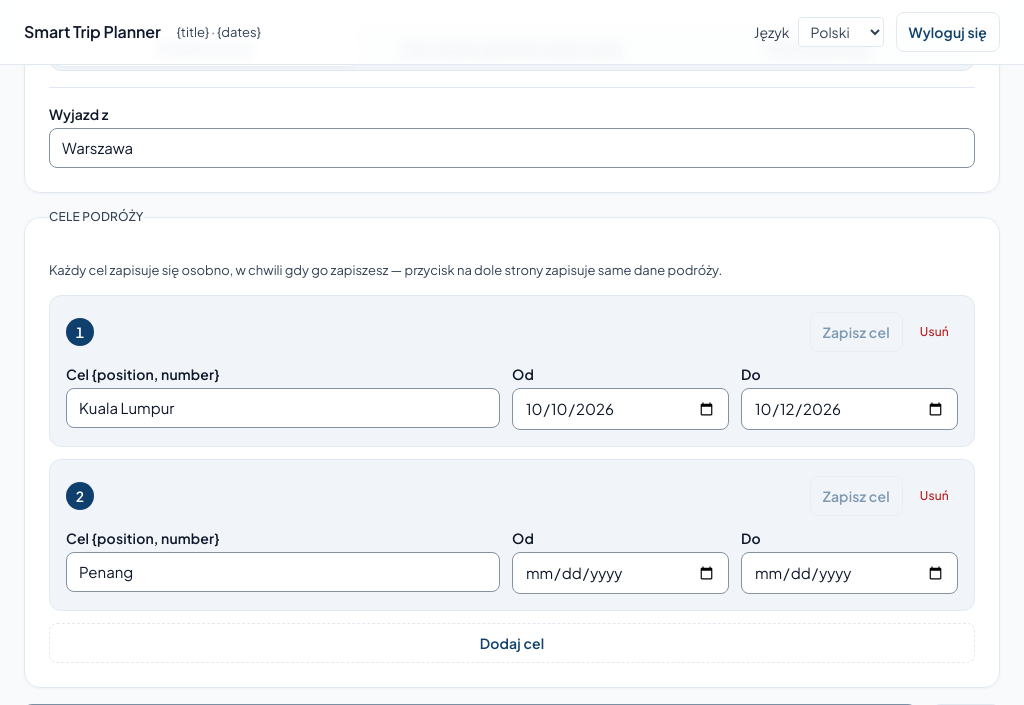
Scenario: editing a base › reports a refused save on the card that caused it, and only there
(page scrolled)
Clear the 2nd field showing "Penang": (283, 572) [66,552,500,592]
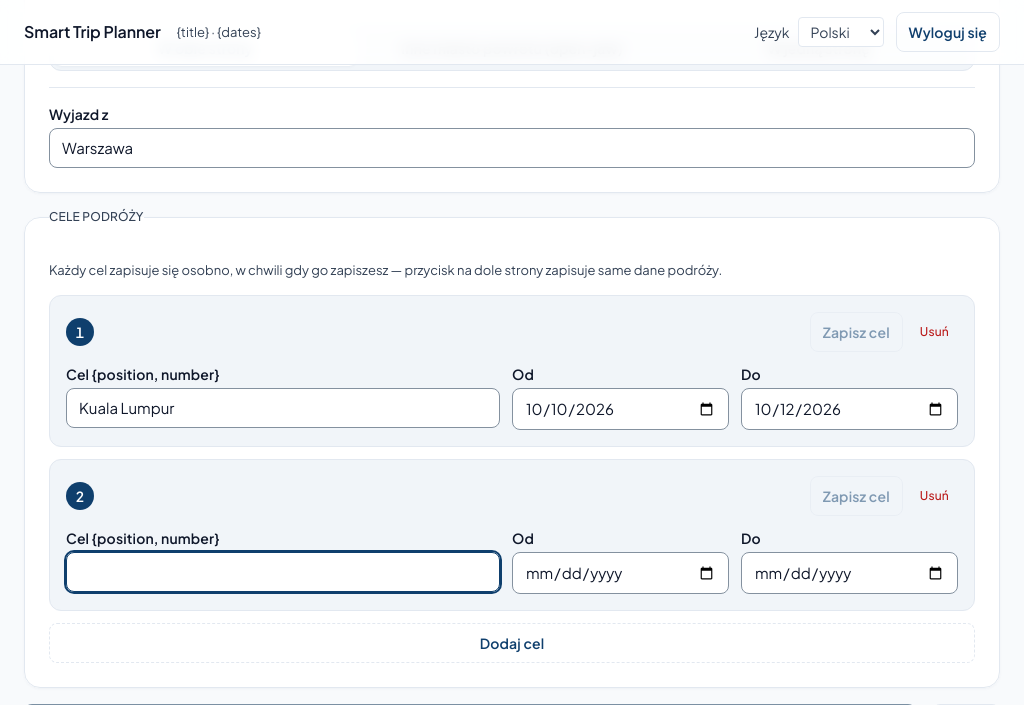
In the 2nd field showing "Penang": (283, 572) [66,552,500,592], type "Perhentian"
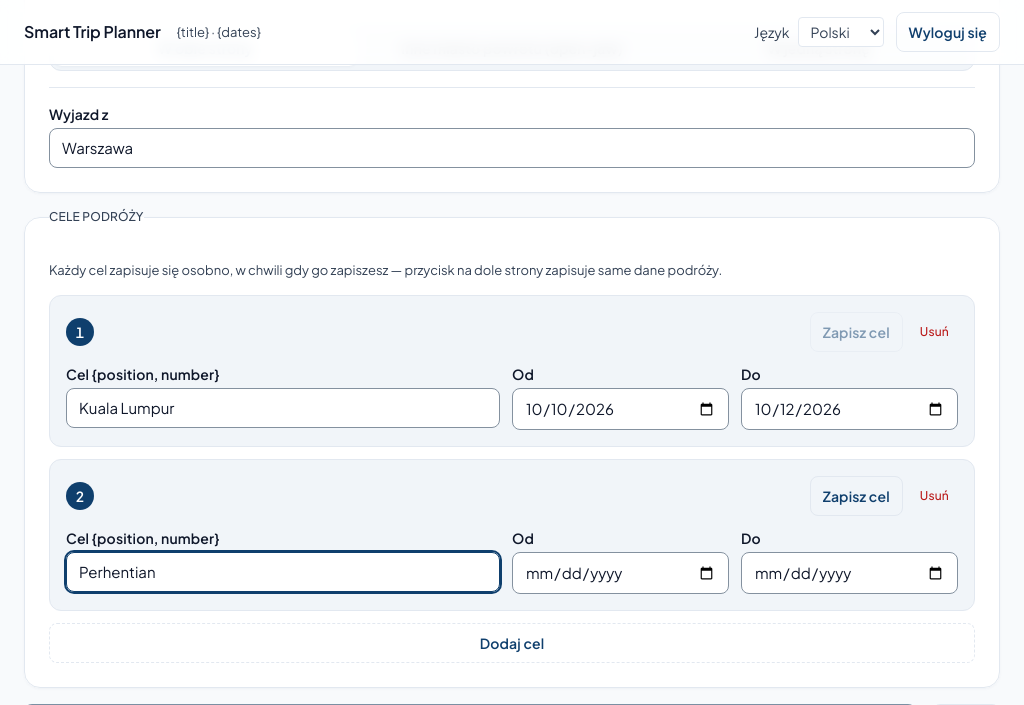
Click the 2nd button "Zapisz cel": (856, 496) [810,476,903,516]
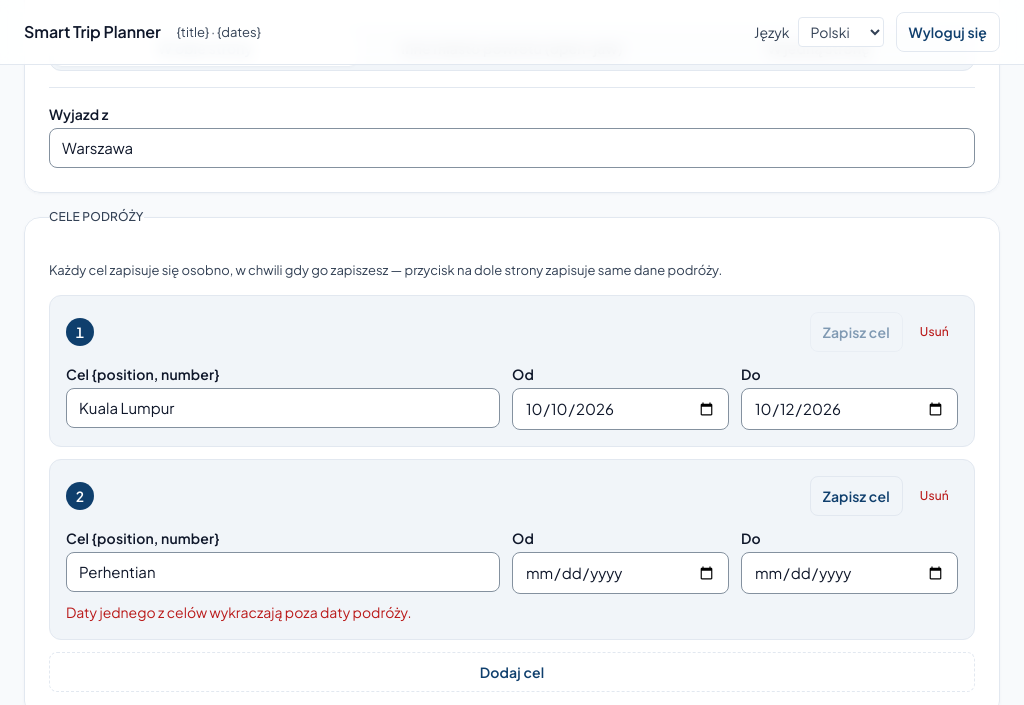
expect the message "Daty jednego z celów wykraczają poza daty podróży." is shown: met, box [66,603,412,621]
